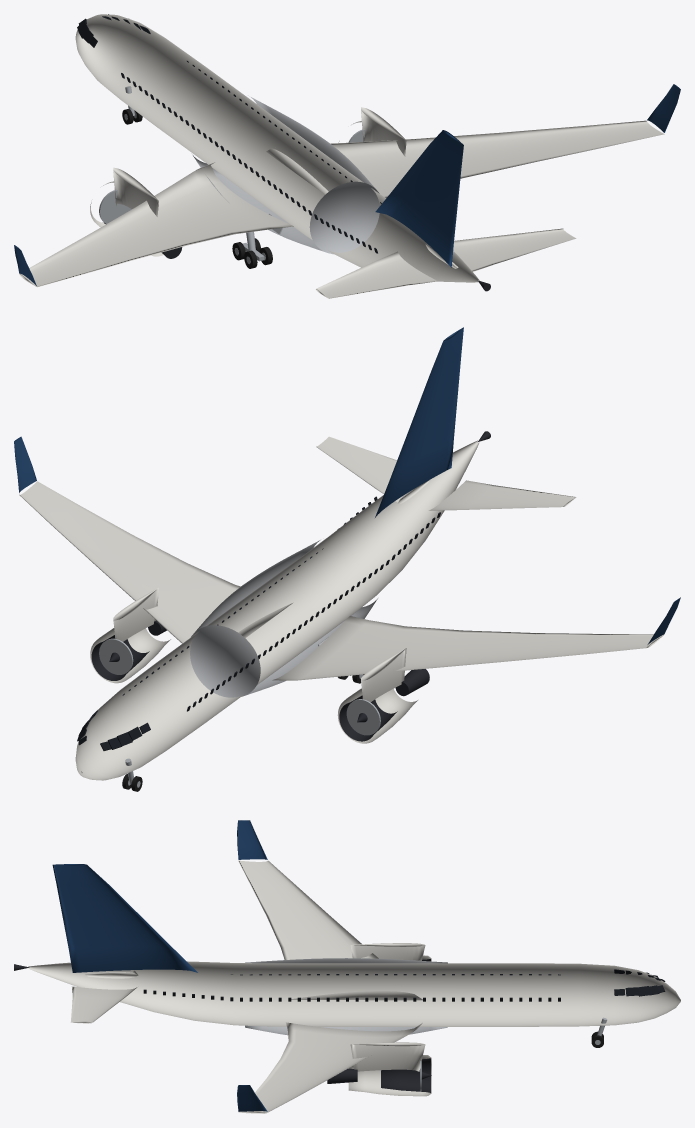
The model's file is widebody-airliner.glb.
3 views of the same model, one above another, from view 1: azimuth 30°, elevation 25°; view 2: azimuth 150°, elevation 25°; view 3: azimuth 270°, elevation 25° (orthographic). The views are drawn at different scales.
Parts seen in each view (by area): view 1: fuselage, wing_left, wing_right, wing_fairing, fin, stabilizer_right, stabilizer_left, pylon (×2), winglet_right, fan; view 2: fuselage, wing_left, wing_right, fin, wing_fairing, pylon (×2), stabilizer_left, nacelle (×2), stabilizer_right, fan (×2), winglet_right; view 3: fuselage, fin, wing_left, wing_right, pylon (×2), wing_fairing, stabilizer_right, inlet, nacelle, winglet_left, winglet_right.
Part boxes in pixels (left/top/right/bottom): fuselage: left=75, top=14, right=479, bottom=282; wing_left: left=19, top=162, right=293, bottom=287; wing_right: left=266, top=120, right=664, bottom=198; wing_fairing: left=193, top=95, right=379, bottom=254; fin: left=375, top=130, right=463, bottom=267; stabilizer_right: left=425, top=228, right=576, bottom=271; stabilizer_left: left=315, top=251, right=437, bottom=298; pylon (×2): left=113, top=107, right=406, bottom=216; winglet_right: left=647, top=84, right=680, bottom=132; fan: left=99, top=190, right=131, bottom=223; fuselage: left=75, top=440, right=479, bottom=780; wing_left: left=272, top=616, right=664, bottom=680; wing_right: left=19, top=481, right=292, bottom=643; fin: left=375, top=327, right=463, bottom=517; wing_fairing: left=190, top=540, right=377, bottom=697; pylon (×2): left=113, top=587, right=406, bottom=702; stabilizer_left: left=429, top=480, right=576, bottom=510; nacelle (×2): left=90, top=628, right=417, bottom=743; stabilizer_right: left=316, top=436, right=429, bottom=503; fan (×2): left=99, top=638, right=380, bottom=735; winglet_right: left=14, top=436, right=36, bottom=492; fuselage: left=28, top=961, right=680, bottom=1026; fin: left=52, top=864, right=197, bottom=972; wing_left: left=238, top=860, right=422, bottom=1000; wing_right: left=238, top=1022, right=422, bottom=1113; pylon (×2): left=350, top=943, right=425, bottom=1071; wing_fairing: left=245, top=958, right=447, bottom=1035; stabilizer_right: left=70, top=986, right=137, bottom=1023; inlet: left=381, top=1058, right=430, bottom=1092; nacelle: left=348, top=1055, right=431, bottom=1096; winglet_left: left=237, top=820, right=267, bottom=859; winglet_right: left=237, top=1085, right=267, bottom=1111.
Size of the model in its own units: 61.92 by 19.7 by 65.8.
